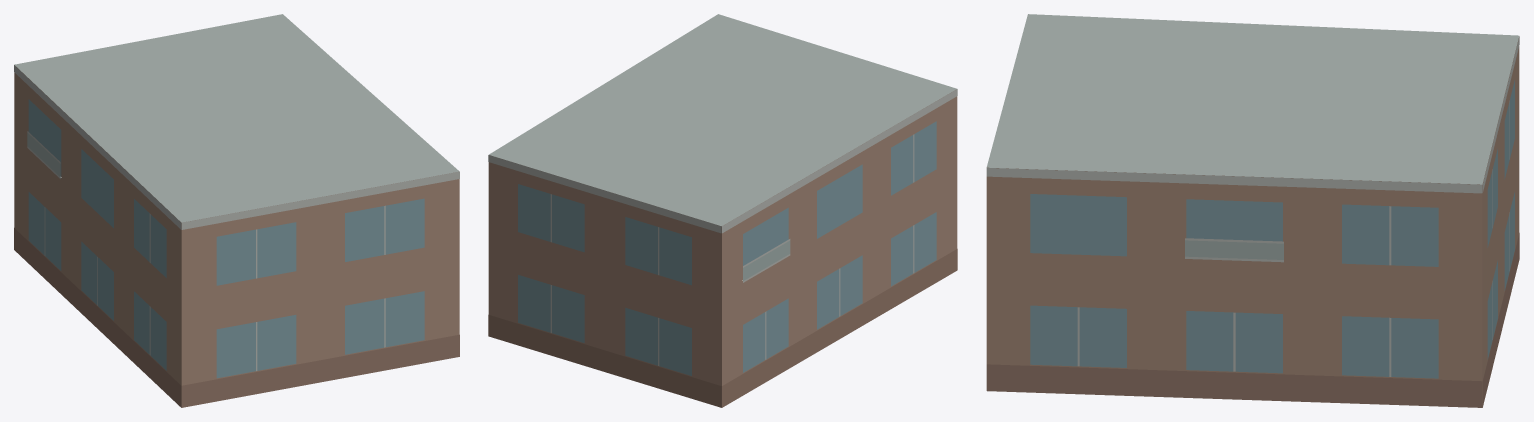
File: survey-upis-32964182.glb
The picture shows the model from 3 angles, left to right: view 1: azimuth 30°, elevation 25°; view 2: azimuth 150°, elevation 25°; view 3: azimuth 270°, elevation 25°; orthographic projection. The views are drawn at different scales.
Visible parts, largest first — view 1: survey-upis-32964182.tmp; view 2: survey-upis-32964182.tmp; view 3: survey-upis-32964182.tmp.
Part boxes in pixels (bbox=[...]): survey-upis-32964182.tmp: bbox=[14, 14, 459, 407]; survey-upis-32964182.tmp: bbox=[488, 14, 957, 407]; survey-upis-32964182.tmp: bbox=[986, 14, 1519, 407].
Bounding box in the file's own units: 10 × 6.1 × 13.2.
